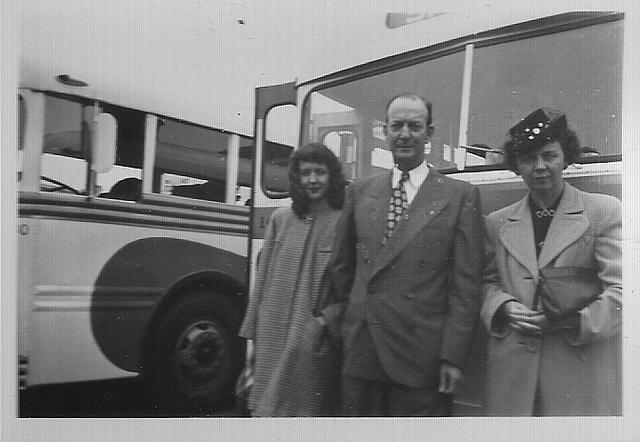bus: (248, 7, 626, 246), (14, 49, 260, 412)
